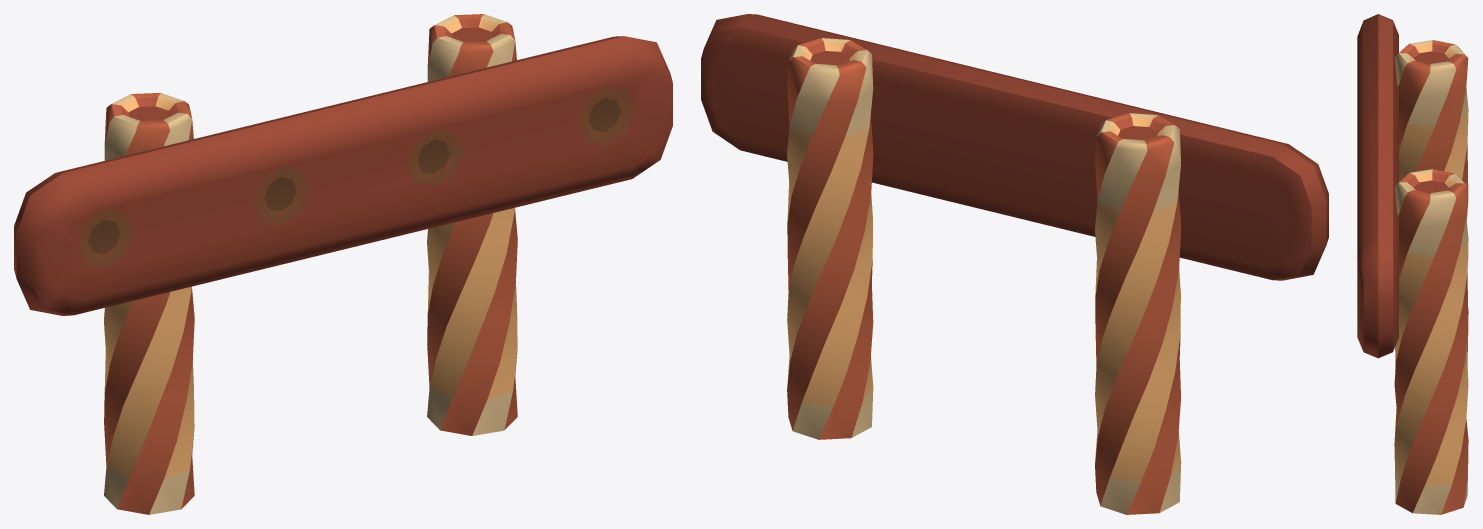
Rendered from cerca_doce_2m_pacote.glb.
3 views of the same model, side by side, from view 1: azimuth 30°, elevation 25°; view 2: azimuth 150°, elevation 25°; view 3: azimuth 270°, elevation 25° (orthographic). The views are drawn at different scales.
Visible parts, largest first — view 1: cerca_doce_2m_pacote; view 2: cerca_doce_2m_pacote; view 3: cerca_doce_2m_pacote.
Boxes of the visible parts, box(x1,y1,x2,y2) form: cerca_doce_2m_pacote: box(14, 14, 672, 514); cerca_doce_2m_pacote: box(701, 14, 1328, 514); cerca_doce_2m_pacote: box(1357, 14, 1468, 514).
Bounding box in the file's own units: 2 × 1.13 × 0.3594.
1 material, 1 textured.
